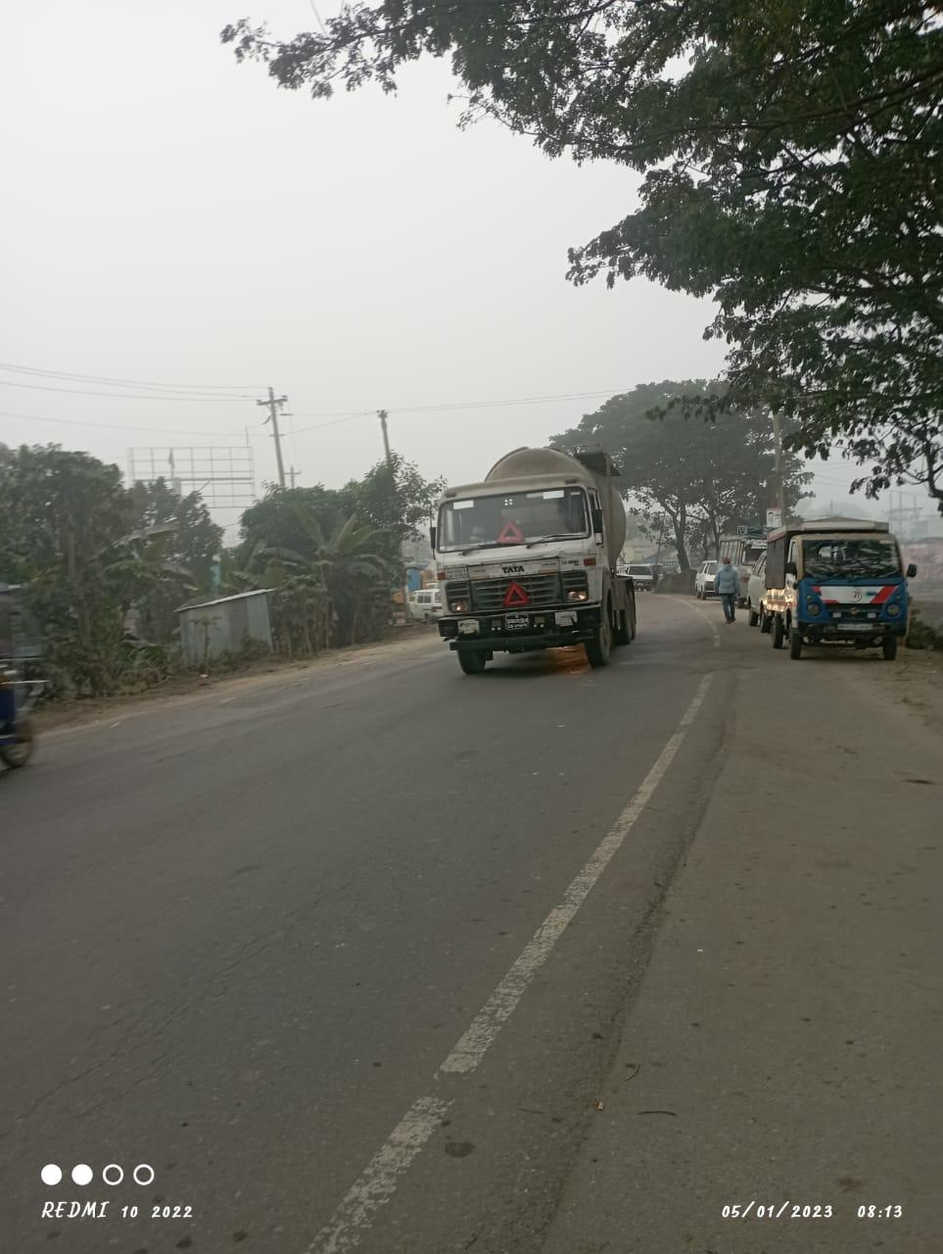Car: (756, 517, 917, 673)
Truck: (398, 444, 651, 671)
